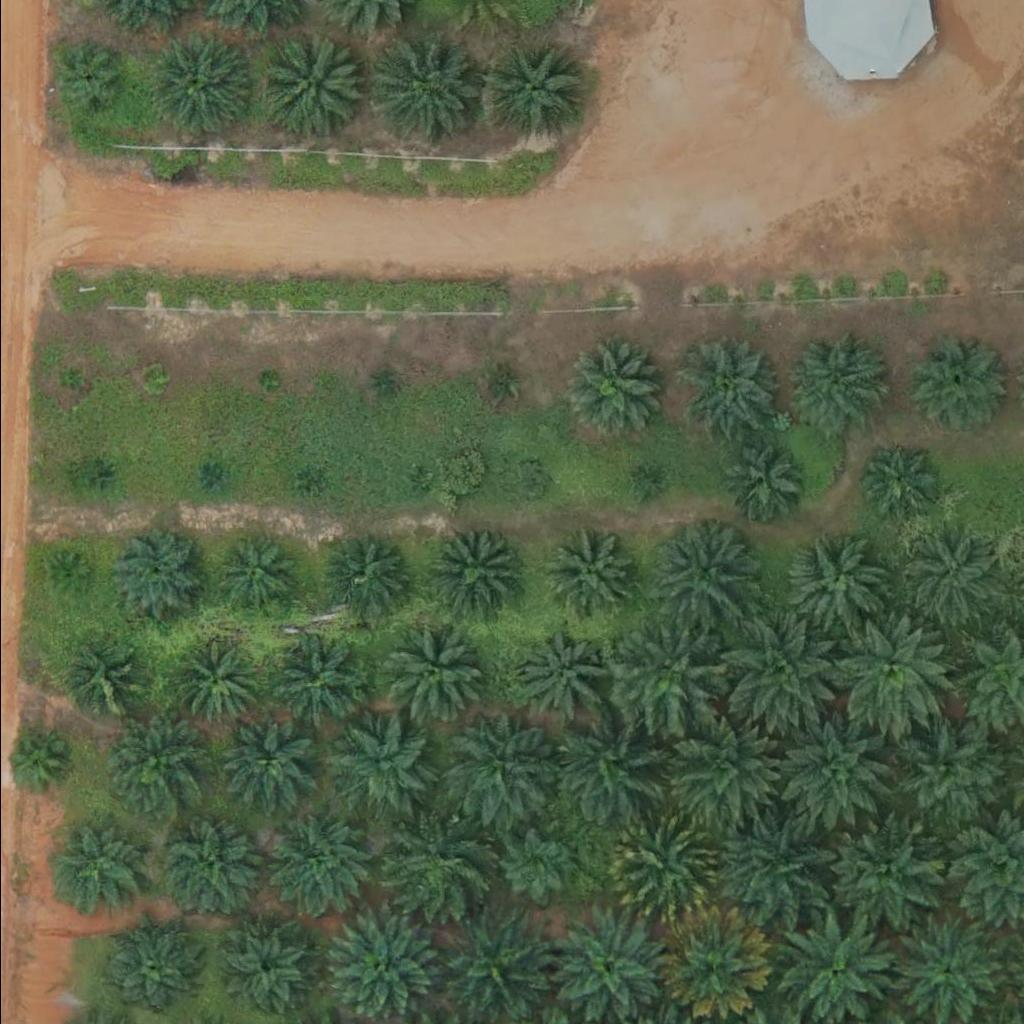Kelapa_Sawit: (315, 909, 429, 1022), (646, 516, 760, 629), (888, 716, 1001, 829), (834, 819, 947, 932), (716, 818, 829, 931), (655, 907, 768, 1020), (606, 809, 719, 922), (554, 909, 667, 1022), (436, 906, 549, 1019), (718, 616, 832, 728), (548, 710, 662, 822), (445, 714, 559, 826), (612, 619, 726, 731), (829, 615, 942, 727), (777, 718, 890, 830), (662, 707, 775, 819), (98, 516, 211, 628), (369, 35, 482, 147), (787, 329, 888, 429), (329, 713, 430, 813), (380, 622, 481, 722), (268, 630, 369, 730), (676, 337, 777, 437), (568, 335, 669, 435), (101, 717, 202, 817), (156, 811, 257, 911), (46, 816, 147, 916), (481, 37, 582, 137), (907, 334, 1007, 434), (895, 532, 995, 632), (782, 534, 882, 634), (386, 818, 486, 918), (265, 811, 365, 911), (98, 922, 198, 1022), (262, 32, 362, 132), (148, 37, 248, 137), (211, 534, 300, 622), (218, 919, 306, 1007), (320, 531, 408, 619), (168, 640, 256, 728), (216, 720, 304, 807), (515, 632, 603, 719), (548, 532, 636, 619), (426, 525, 514, 612), (719, 438, 807, 525), (50, 43, 126, 118), (859, 445, 935, 520), (499, 827, 575, 902), (63, 647, 138, 722), (2, 726, 65, 789), (506, 463, 544, 501), (51, 556, 89, 594), (634, 476, 659, 501), (404, 472, 429, 497), (288, 466, 313, 491), (484, 372, 509, 397), (371, 372, 396, 397), (253, 368, 278, 393), (141, 364, 166, 389), (57, 367, 82, 392), (199, 467, 224, 492), (89, 460, 114, 485)
